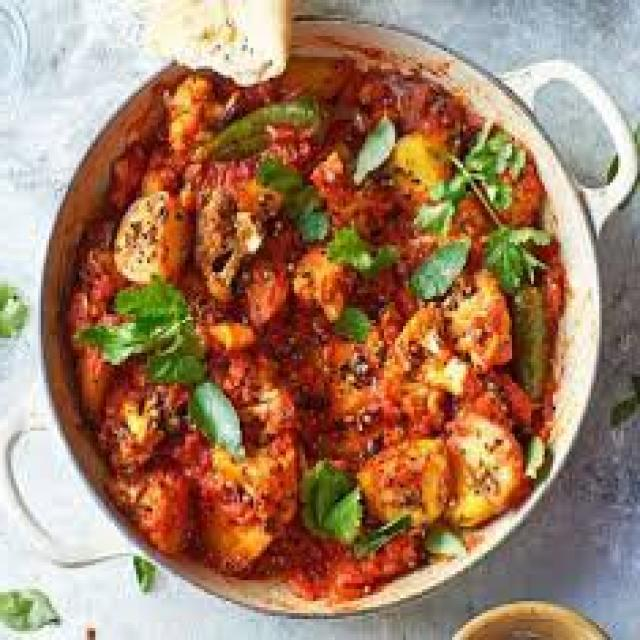Aloo Gobi: (114, 107, 520, 539)
